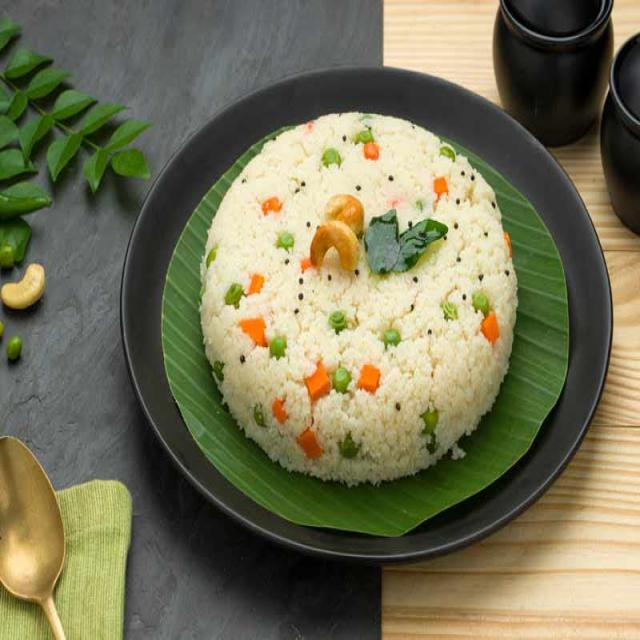upma: (192, 100, 529, 499)
